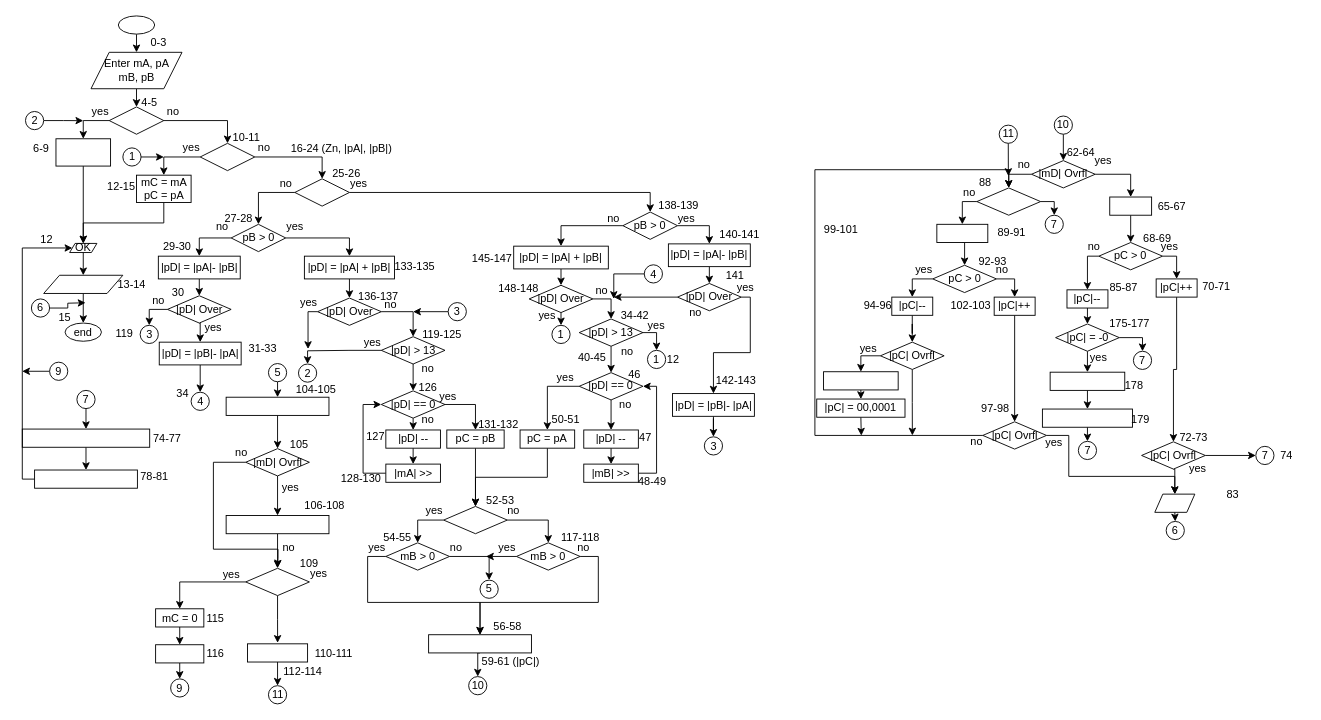
The diagram is 1321 pixels wide and 720 high, and some of its shapes have lost their labels. The centre of each missing label's shape, as x and y in pixels:
"begin" goes at pixel 136 24.
"err" goes at pixel 1174 502.
"mA = 0" goes at pixel 136 120.
"mA = mB" goes at pixel 277 652.
"mA > 0" goes at pixel 475 520.
"mB = 0" goes at pixel 227 156.
"mC = mB pC = pB" goes at pixel 83 152.
"mC = znmA(В) V |mD|" goes at pixel 85 437.
"mD = |mB| - |mA|" goes at pixel 277 524.
"Out mC, pC" goes at pixel 83 283.
"pA > 0" goes at pixel 321 192.
"pC = 0" goes at pixel 179 653.
"pC = 00,0000" goes at pixel 1087 380.
"pC = 11,0000" goes at pixel 860 380.
"pC = znpC V |pC|" goes at pixel 85 478.
"|mD| <<" goes at pixel 962 233.
"|mD| = |mA| + |mB|" goes at pixel 479 643.
"|mD| = |mA| - |mB|" goes at pixel 277 405.
"|mD| == 0" goes at pixel 277 581.
"|mD| >>" goes at pixel 1130 205.
"|mD| Norm" goes at pixel 1008 201.
"|pC| = 00,0000" goes at pixel 1086 417.
